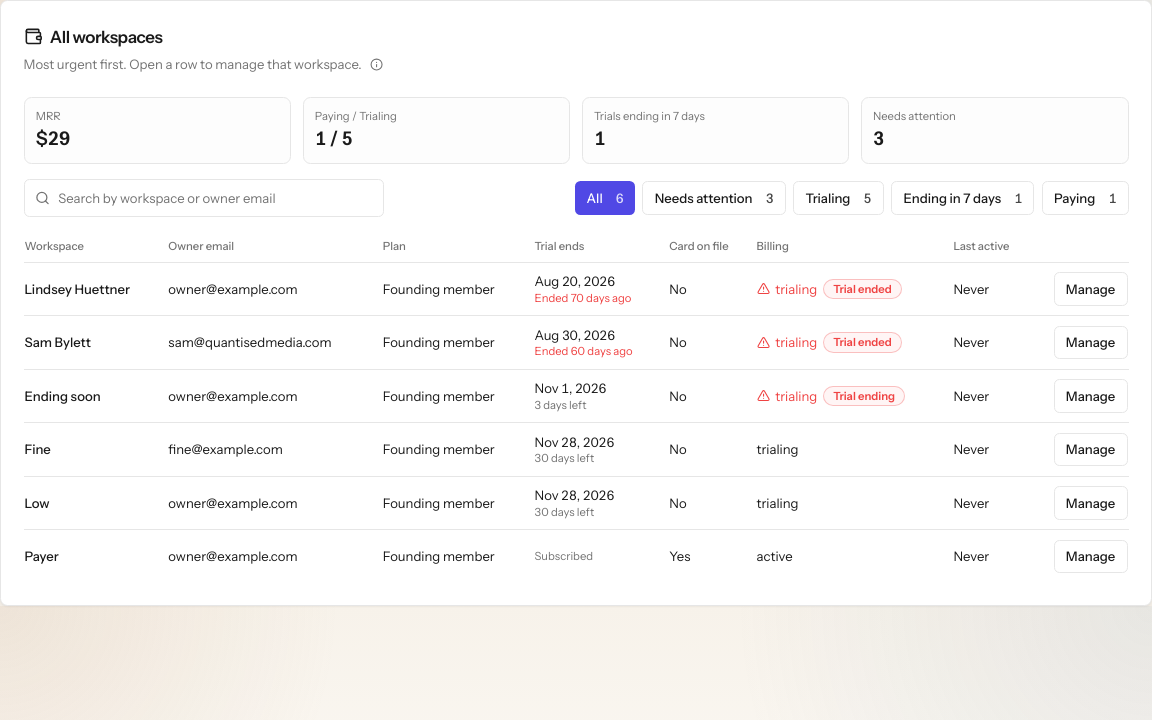
Scenario: BillingPortfolio › searches by owner email and keeps the search in the address
The image size is (1152, 720).
Type "QUANTISED" into the search field named "Search workspaces".
click(204, 198); type("QUANTISED")  # box [24,179,384,217]
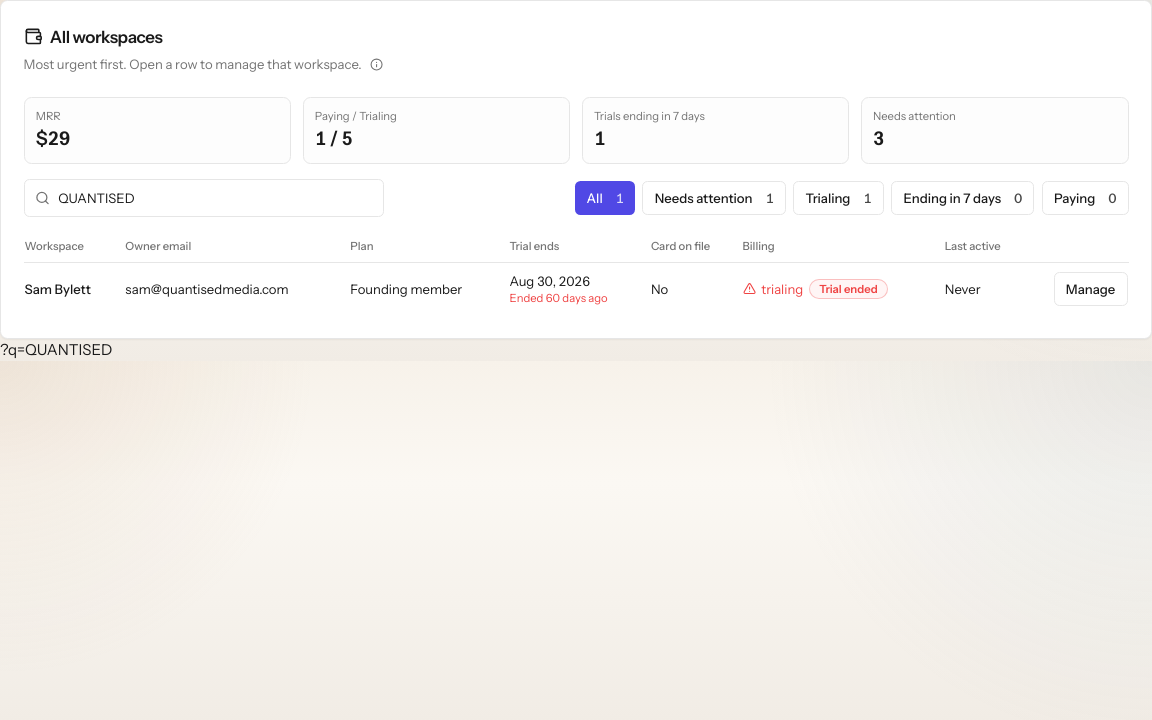
Check: the text with test id "location" shows "q=QUANTISED", box [0,340,112,359]
